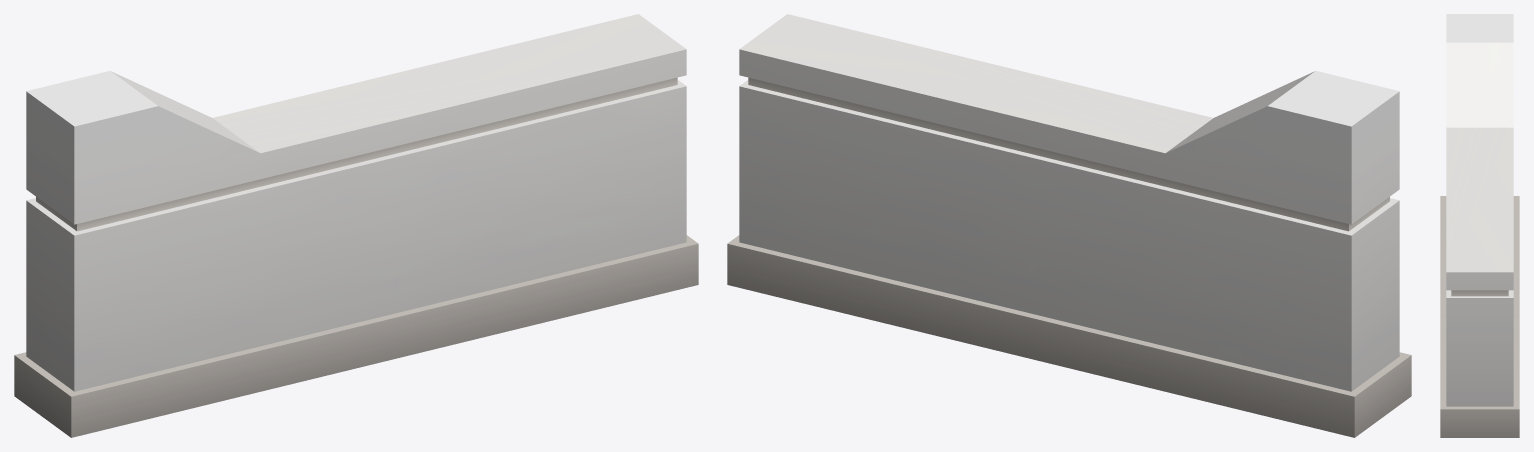
File: Wall_Divider_B.fbx
3 renders of one model, left to right at view 1: azimuth 30°, elevation 25°; view 2: azimuth 150°, elevation 25°; view 3: azimuth 270°, elevation 25°, orthographic. The views are drawn at different scales.
Parts seen in each view (by area): view 1: Wall_Divider_B; view 2: Wall_Divider_B; view 3: Wall_Divider_B.
Boxes of the visible parts, x1,y1,x2,y2 form: Wall_Divider_B: [14, 14, 698, 437]; Wall_Divider_B: [727, 14, 1411, 437]; Wall_Divider_B: [1440, 14, 1519, 437].
Size of the model in its own units: 300 by 140 by 47.22.
